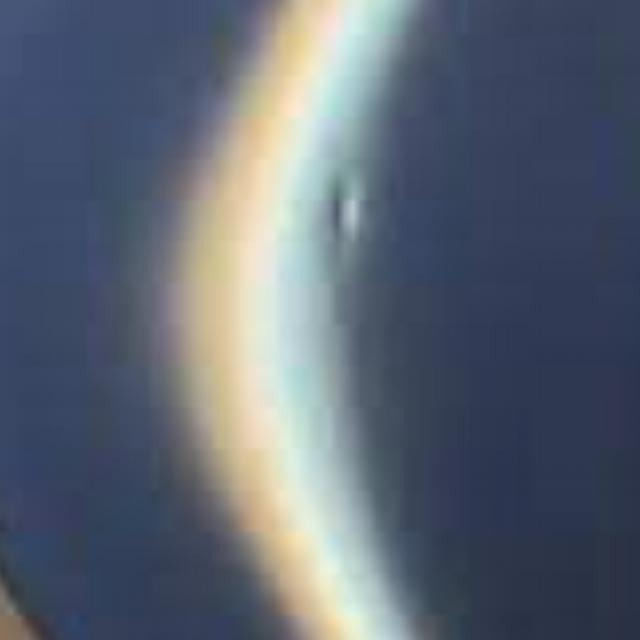dents: (298, 146, 416, 298)
